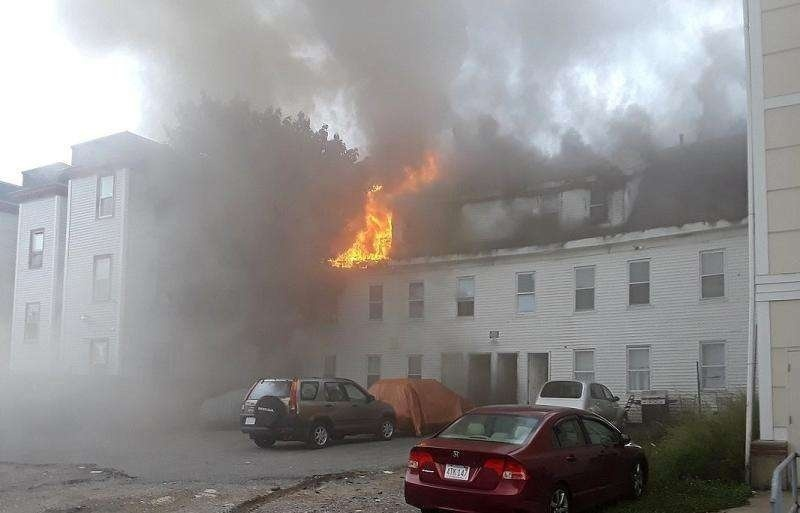fire: (324, 150, 440, 266)
